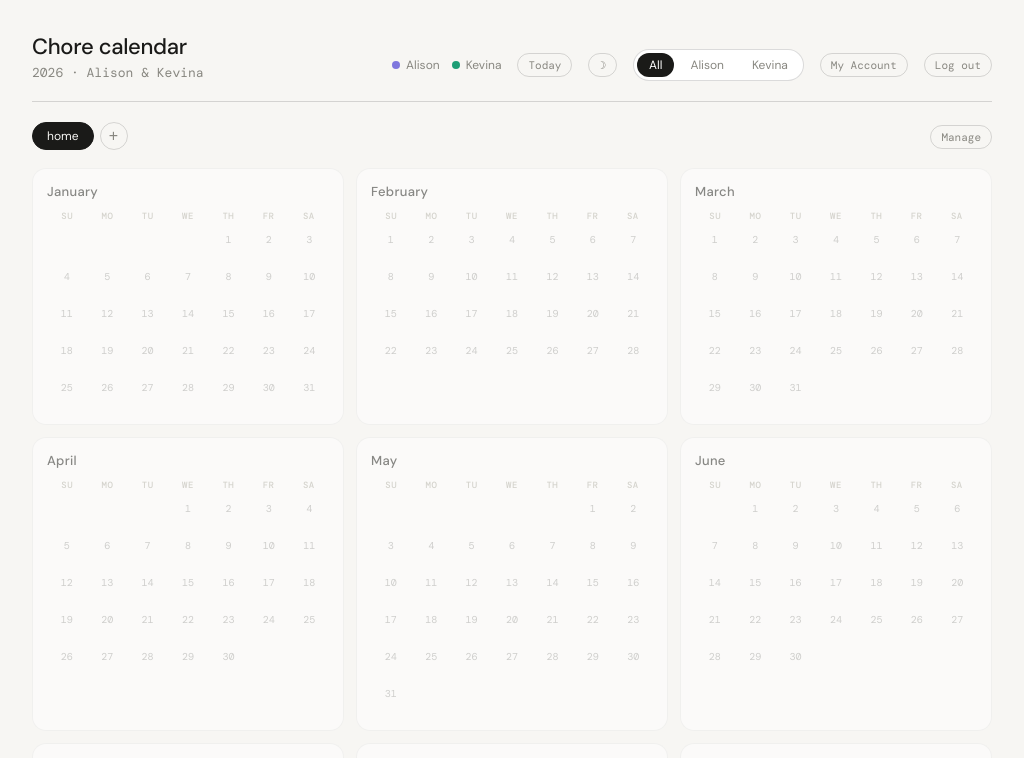
Test: App › shows no-chores message for date with no scheduled chores
Check: the text "January" is shown, box [47,183,98,200]
Step 1. Click the button "2" below "January" → (269, 240), box [266,233,272,246]
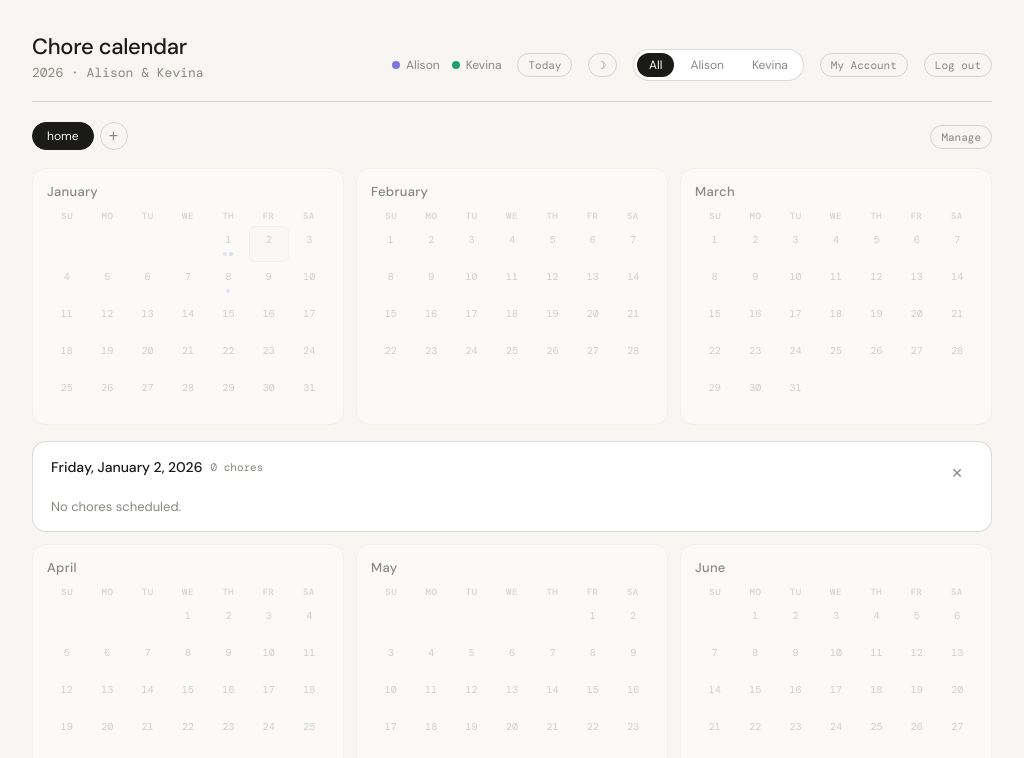
Check: the text "No chores scheduled." is shown, box [51,498,181,515]
